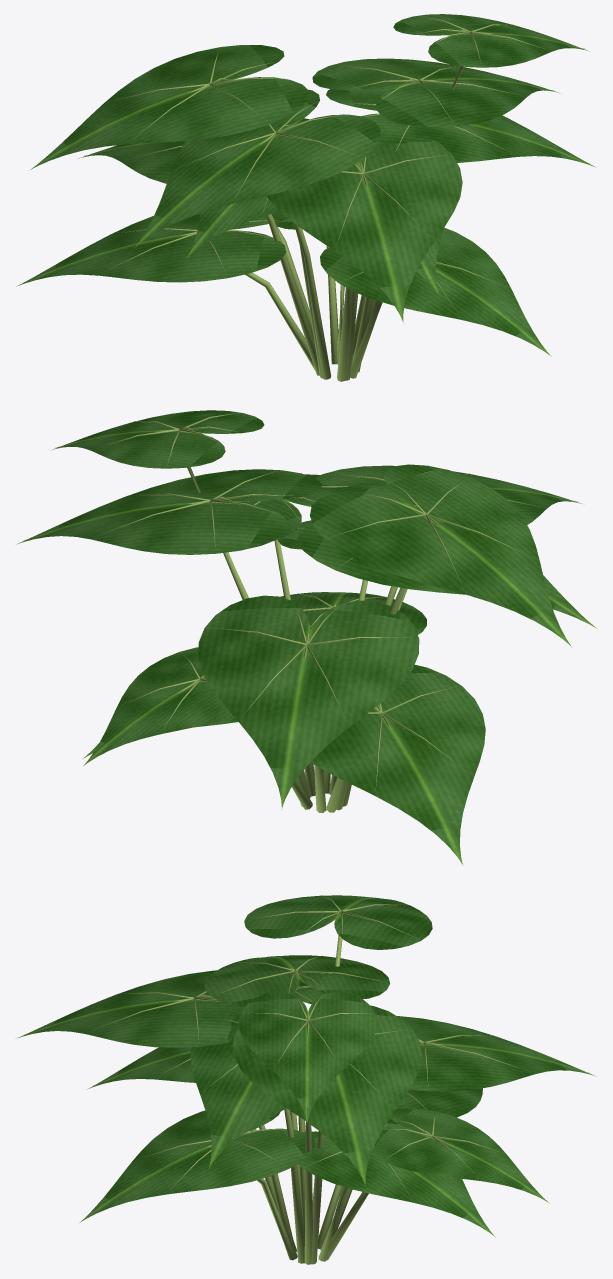
File: KL_LS_Colocasia_Clump.gltf
3 views of the same model, one above another, from view 1: azimuth 30°, elevation 25°; view 2: azimuth 150°, elevation 25°; view 3: azimuth 270°, elevation 25° (orthographic). The views are drawn at different scales.
Parts seen in each view (by area): view 1: TF3_KL_LS_Colocasia_Clump; view 2: TF3_KL_LS_Colocasia_Clump; view 3: TF3_KL_LS_Colocasia_Clump.
Part boxes in pixels (bbox=[...]): TF3_KL_LS_Colocasia_Clump: bbox=[16, 14, 596, 381]; TF3_KL_LS_Colocasia_Clump: bbox=[16, 410, 596, 865]; TF3_KL_LS_Colocasia_Clump: bbox=[17, 895, 595, 1264].
Size of the model in its own units: 2.41 by 1.39 by 2.42.
Materials: 2 (1 with a texture image).
